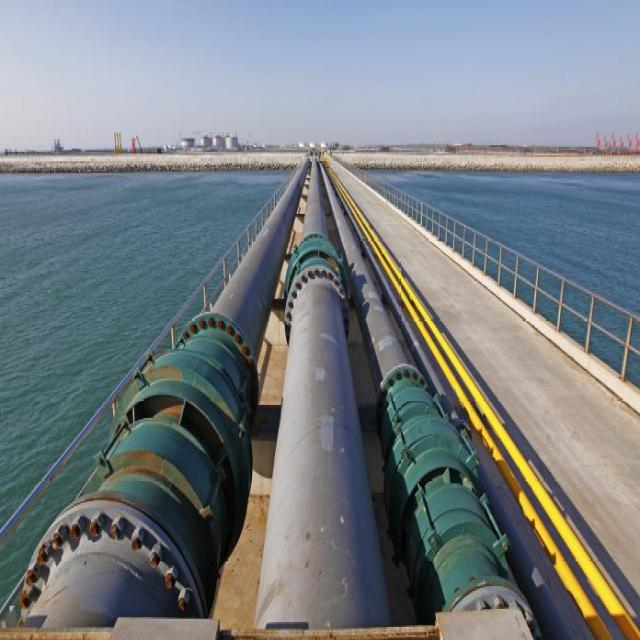gas: (331, 167, 639, 640), (23, 154, 312, 626), (331, 166, 608, 640), (321, 167, 523, 619), (258, 153, 392, 624)
